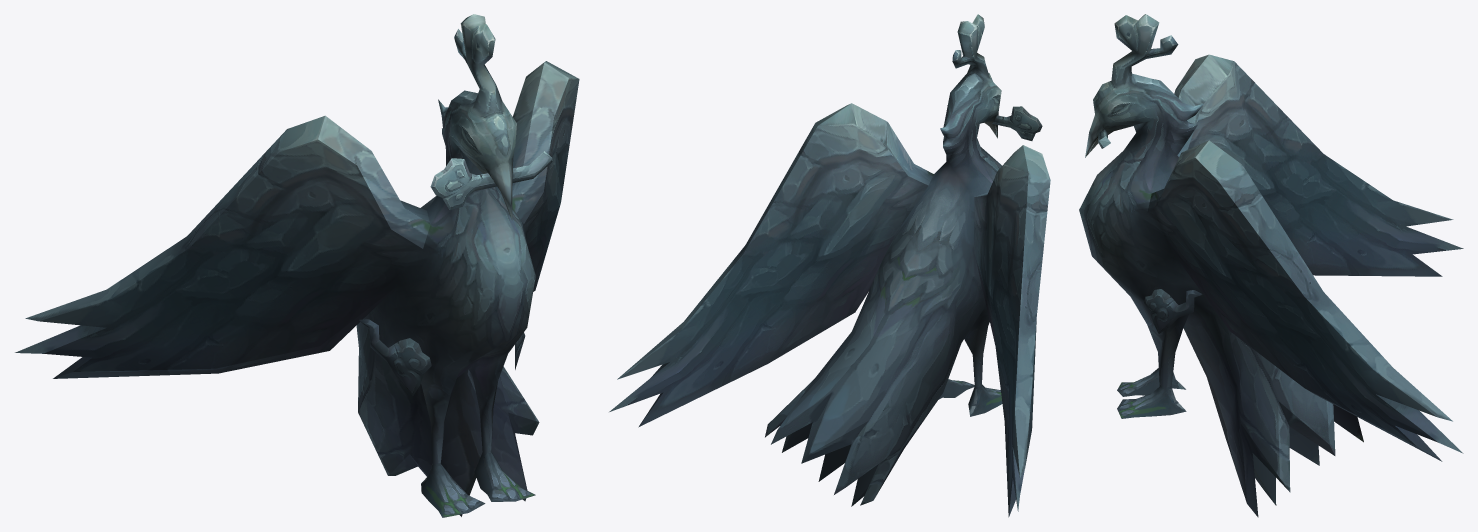
Rendered from fb_tys_wj_03_b.FBX.
3 views of the same model, side by side, from view 1: azimuth 30°, elevation 25°; view 2: azimuth 150°, elevation 25°; view 3: azimuth 270°, elevation 25° (orthographic). The views are drawn at different scales.
Parts seen in each view (by area): view 1: fb_tys_wj_03_b; view 2: fb_tys_wj_03_b; view 3: fb_tys_wj_03_b.
Part boxes in pixels (bbox=[...]): fb_tys_wj_03_b: bbox=[15, 14, 579, 517]; fb_tys_wj_03_b: bbox=[609, 14, 1050, 517]; fb_tys_wj_03_b: bbox=[1079, 14, 1463, 517].
Bounding box in the file's own units: 827 × 874 × 656.
